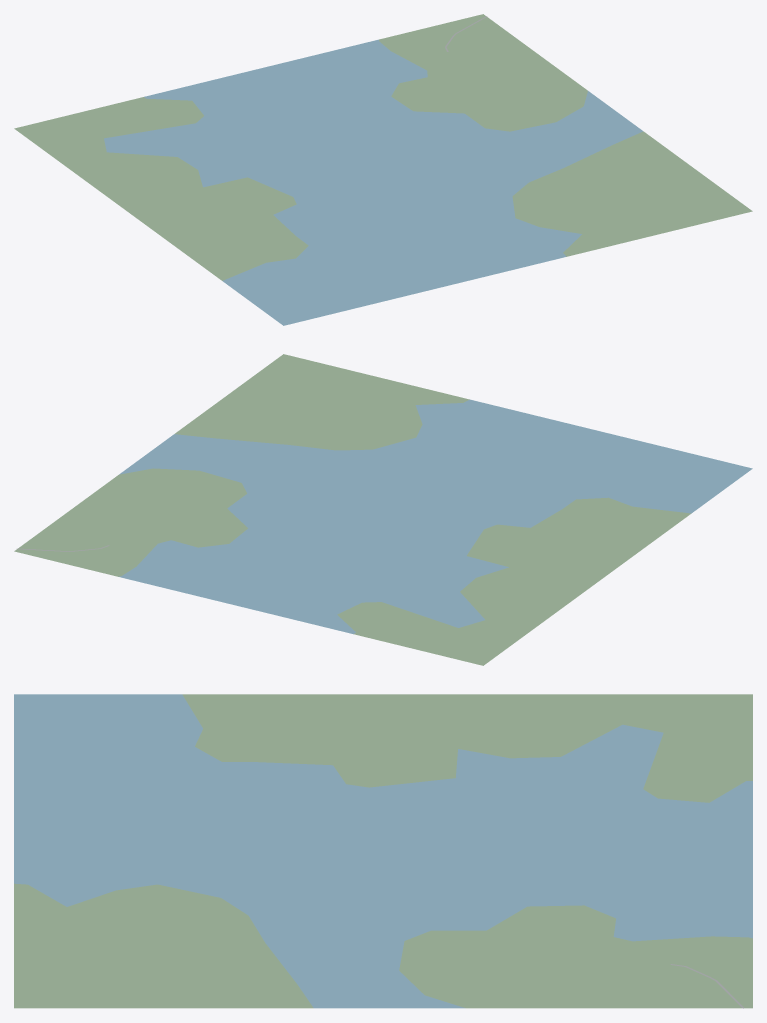
The model's file is -14_9-known-coarse.glb.
3 views of the same model, one above another, from view 1: azimuth 30°, elevation 25°; view 2: azimuth 150°, elevation 25°; view 3: azimuth 270°, elevation 25° (orthographic). The views are drawn at different scales.
Bounding box in the file's own units: 1001 × 0.1 × 995.
